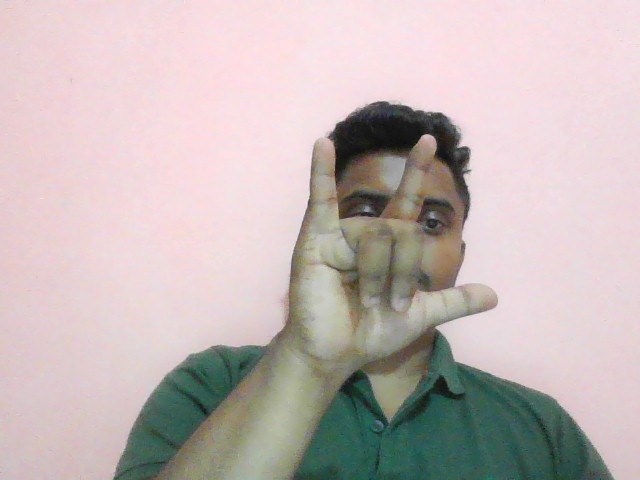I Love You: (283, 122, 521, 383)
